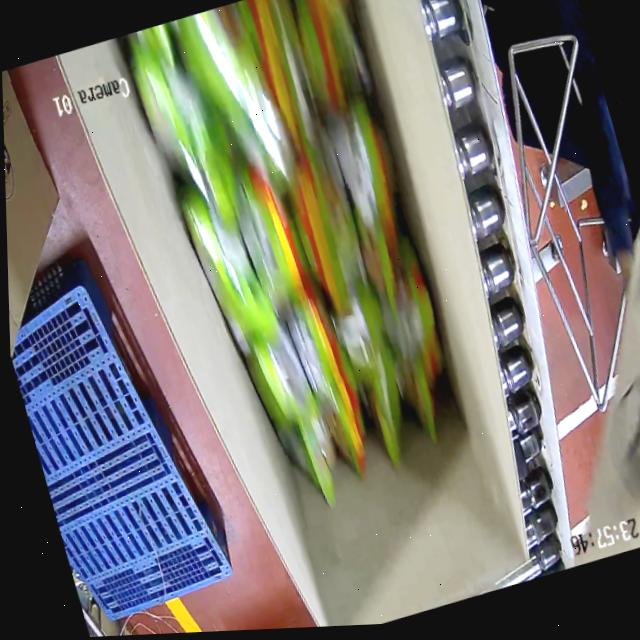YOGURT_HERB: (120, 0, 497, 525)
